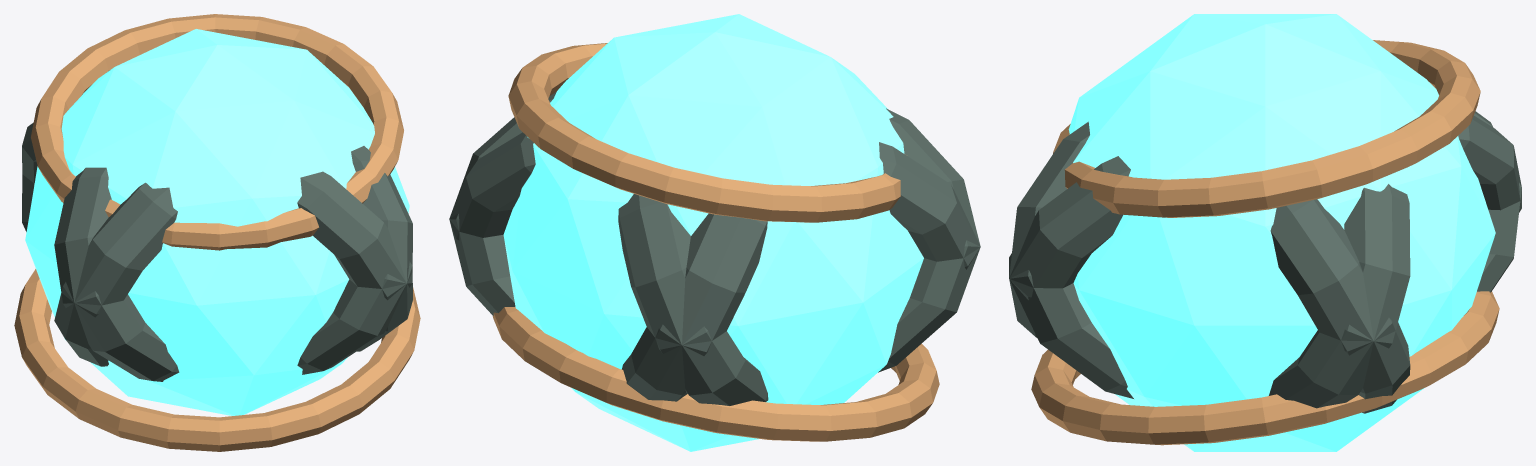
File: loot_alien_core.glb
3 views of the same model, side by side, from view 1: azimuth 30°, elevation 25°; view 2: azimuth 150°, elevation 25°; view 3: azimuth 270°, elevation 25° (orthographic). The views are drawn at different scales.
Parts seen in each view (by area): view 1: Loot_AlienCore; view 2: Loot_AlienCore; view 3: Loot_AlienCore.
Part boxes in pixels (bbox=[...]): Loot_AlienCore: bbox=[14, 14, 420, 451]; Loot_AlienCore: bbox=[449, 14, 980, 451]; Loot_AlienCore: bbox=[1009, 14, 1521, 451].
Size of the model in its own units: 0.8013 by 0.72 by 0.8013.
